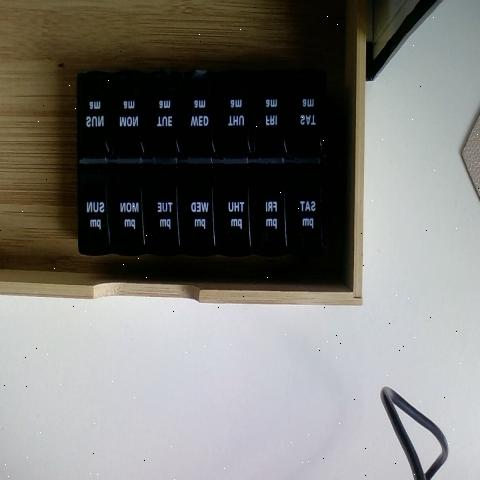FRI-am: (251, 79, 286, 167)
FRI-pm: (250, 167, 285, 252)
MON-am: (115, 77, 148, 168)
MON-pm: (108, 174, 146, 258)
SAT-am: (285, 82, 326, 171)
SAT-pm: (288, 185, 324, 277)
SUN-am: (77, 73, 112, 171)
SUN-pm: (75, 173, 111, 257)
THU-am: (216, 71, 249, 164), (148, 76, 178, 165)
THU-pm: (216, 168, 252, 264)
TUE-pm: (143, 168, 178, 250)
WED-am: (176, 78, 214, 166)
WED-pm: (181, 168, 216, 259)
